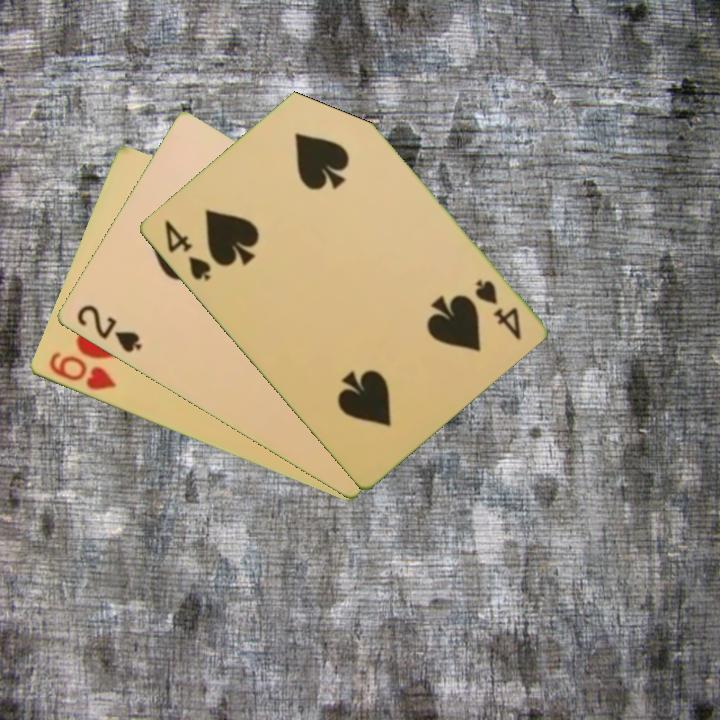2s: (72, 301, 144, 356)
4s: (470, 276, 524, 343), (160, 216, 213, 284)
6h: (45, 348, 119, 394)
